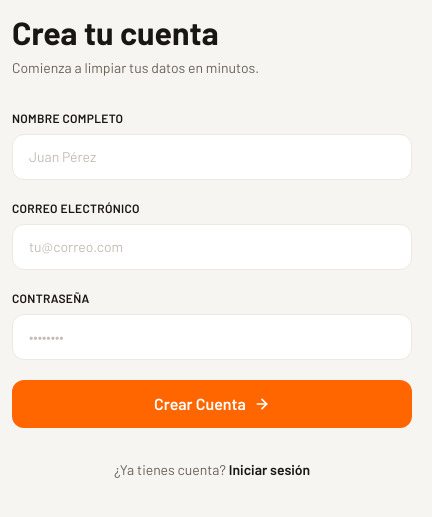
it: RegisterPage › shows validation error for invalid email
This screenshot has width=432, height=517.
Type "Juan" into the field labelled "Nombre completo". click: point(212, 157)
box: [12,134,412,180]
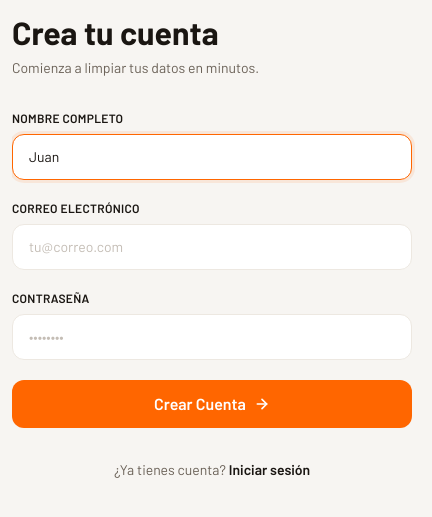
Type "not-valid" into the field labelled "Correo electrónico". click: point(212, 247)
box: [12,224,412,270]
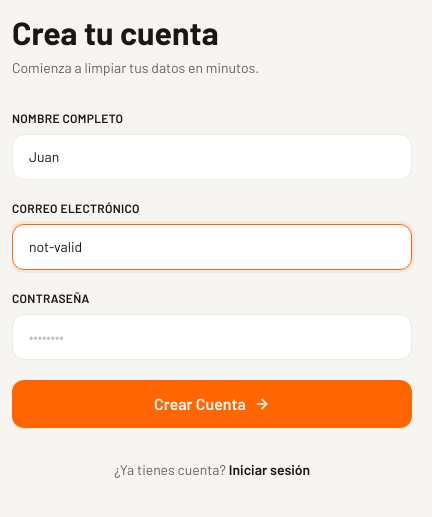
Type "password123" into the password field labelled "Contraseña". click: point(212, 337)
box: [12,314,412,360]
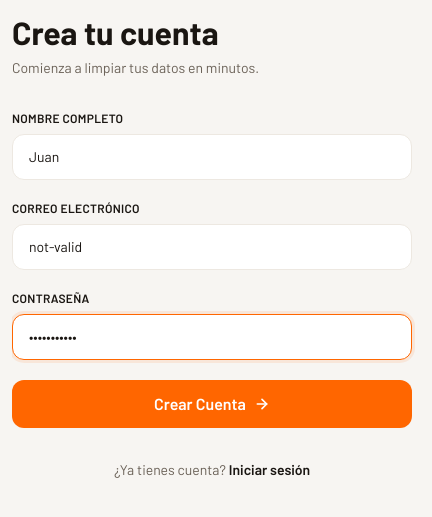
Click the button "Crear Cuenta". click: point(212, 404)
box: [12,380,412,428]
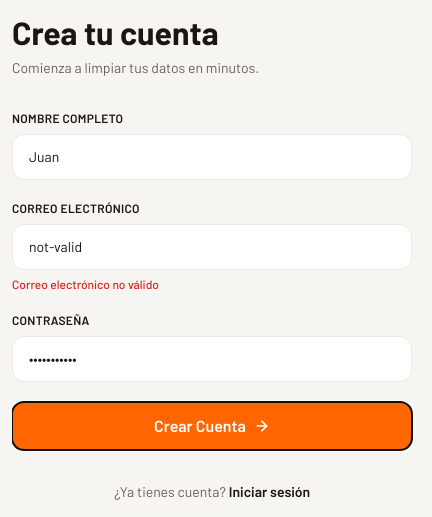
Expected: the text "Correo electrónico no válido" is shown, [12,277,159,291]
